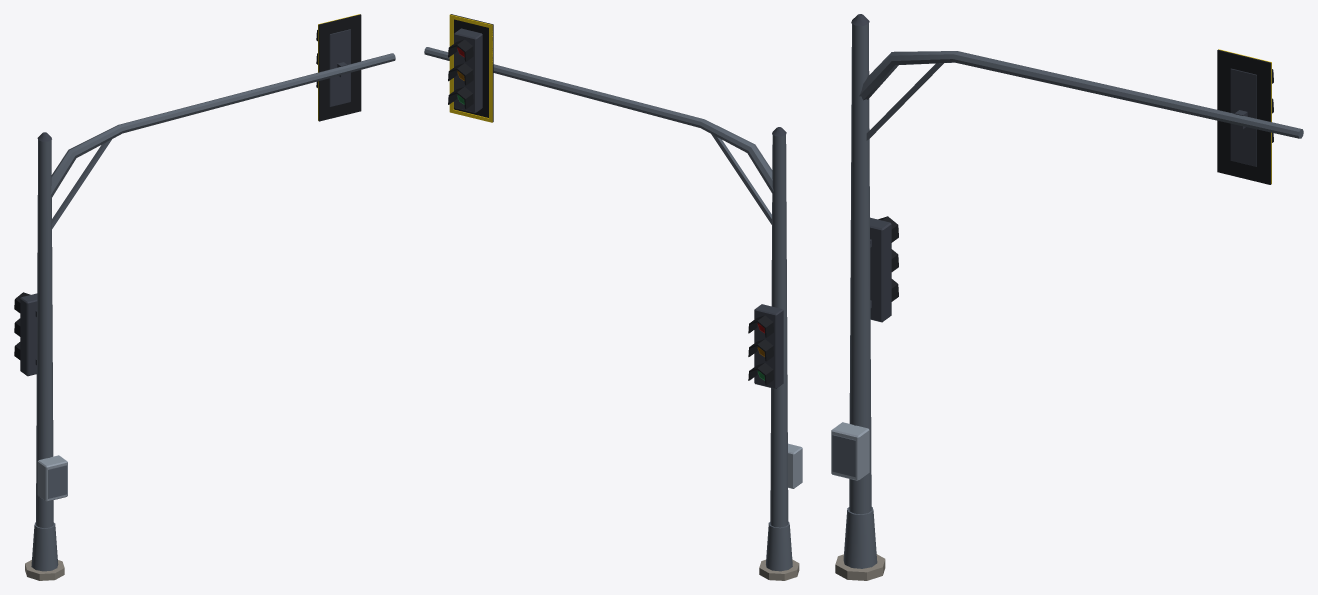
File: traffic_light.glb
The picture shows the model from 3 angles, left to right: view 1: azimuth 30°, elevation 25°; view 2: azimuth 150°, elevation 25°; view 3: azimuth 330°, elevation 25°; orthographic projection. The views are drawn at different scales.
Visible parts, largest first — view 1: traffic_light; view 2: traffic_light; view 3: traffic_light.
Boxes of the visible parts, left/top/right/bottom form: traffic_light: left=14, top=14, right=395, bottom=580; traffic_light: left=424, top=14, right=802, bottom=580; traffic_light: left=831, top=14, right=1303, bottom=580.
Bounding box in the file's own units: 5.57 × 6.92 × 0.911.
